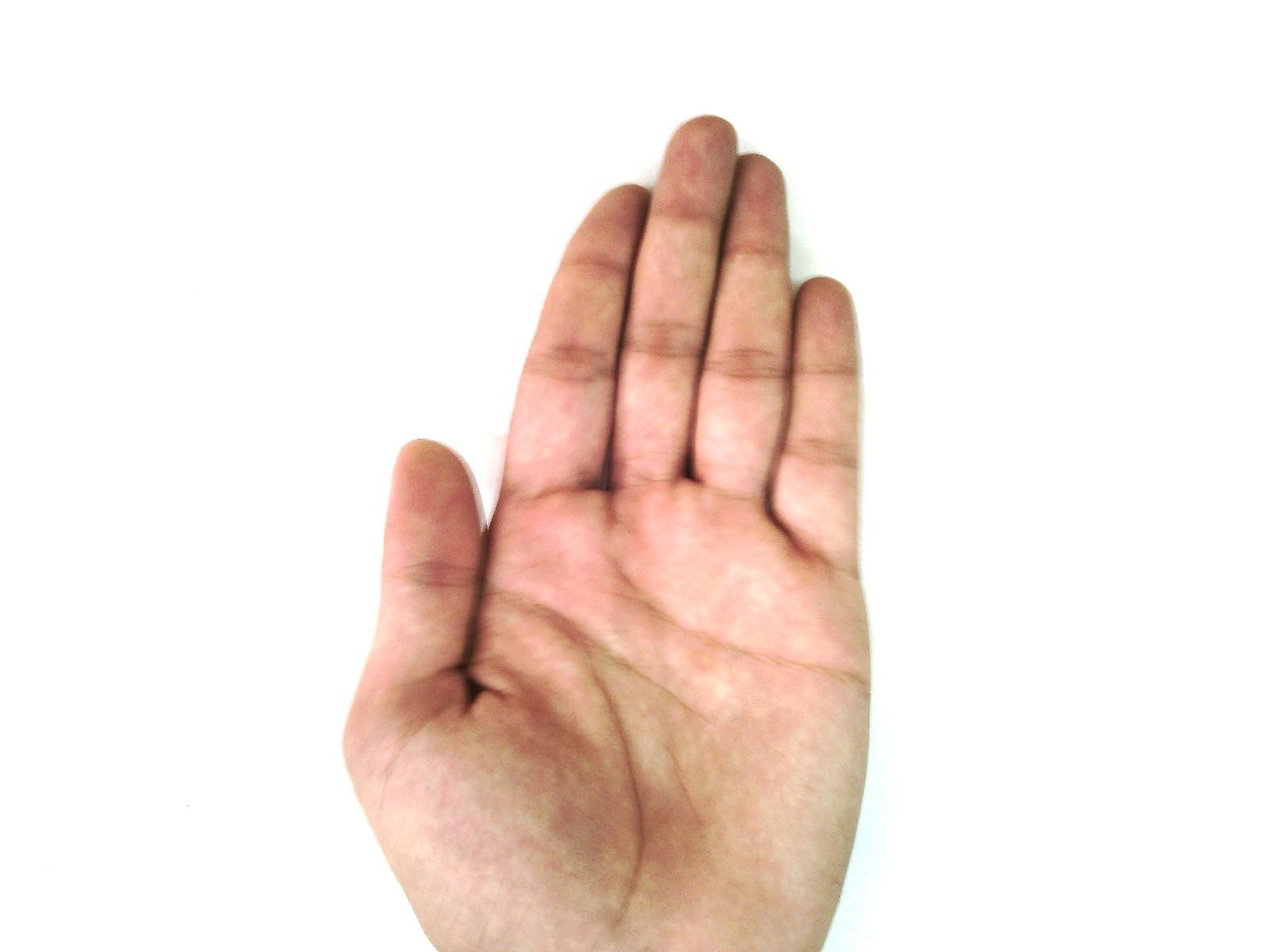open_palm: (340, 113, 876, 951)
